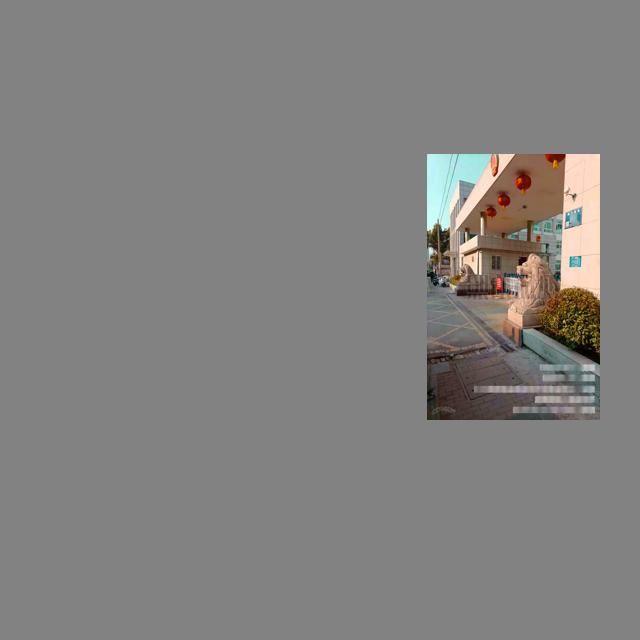good: (453, 352, 527, 403)
